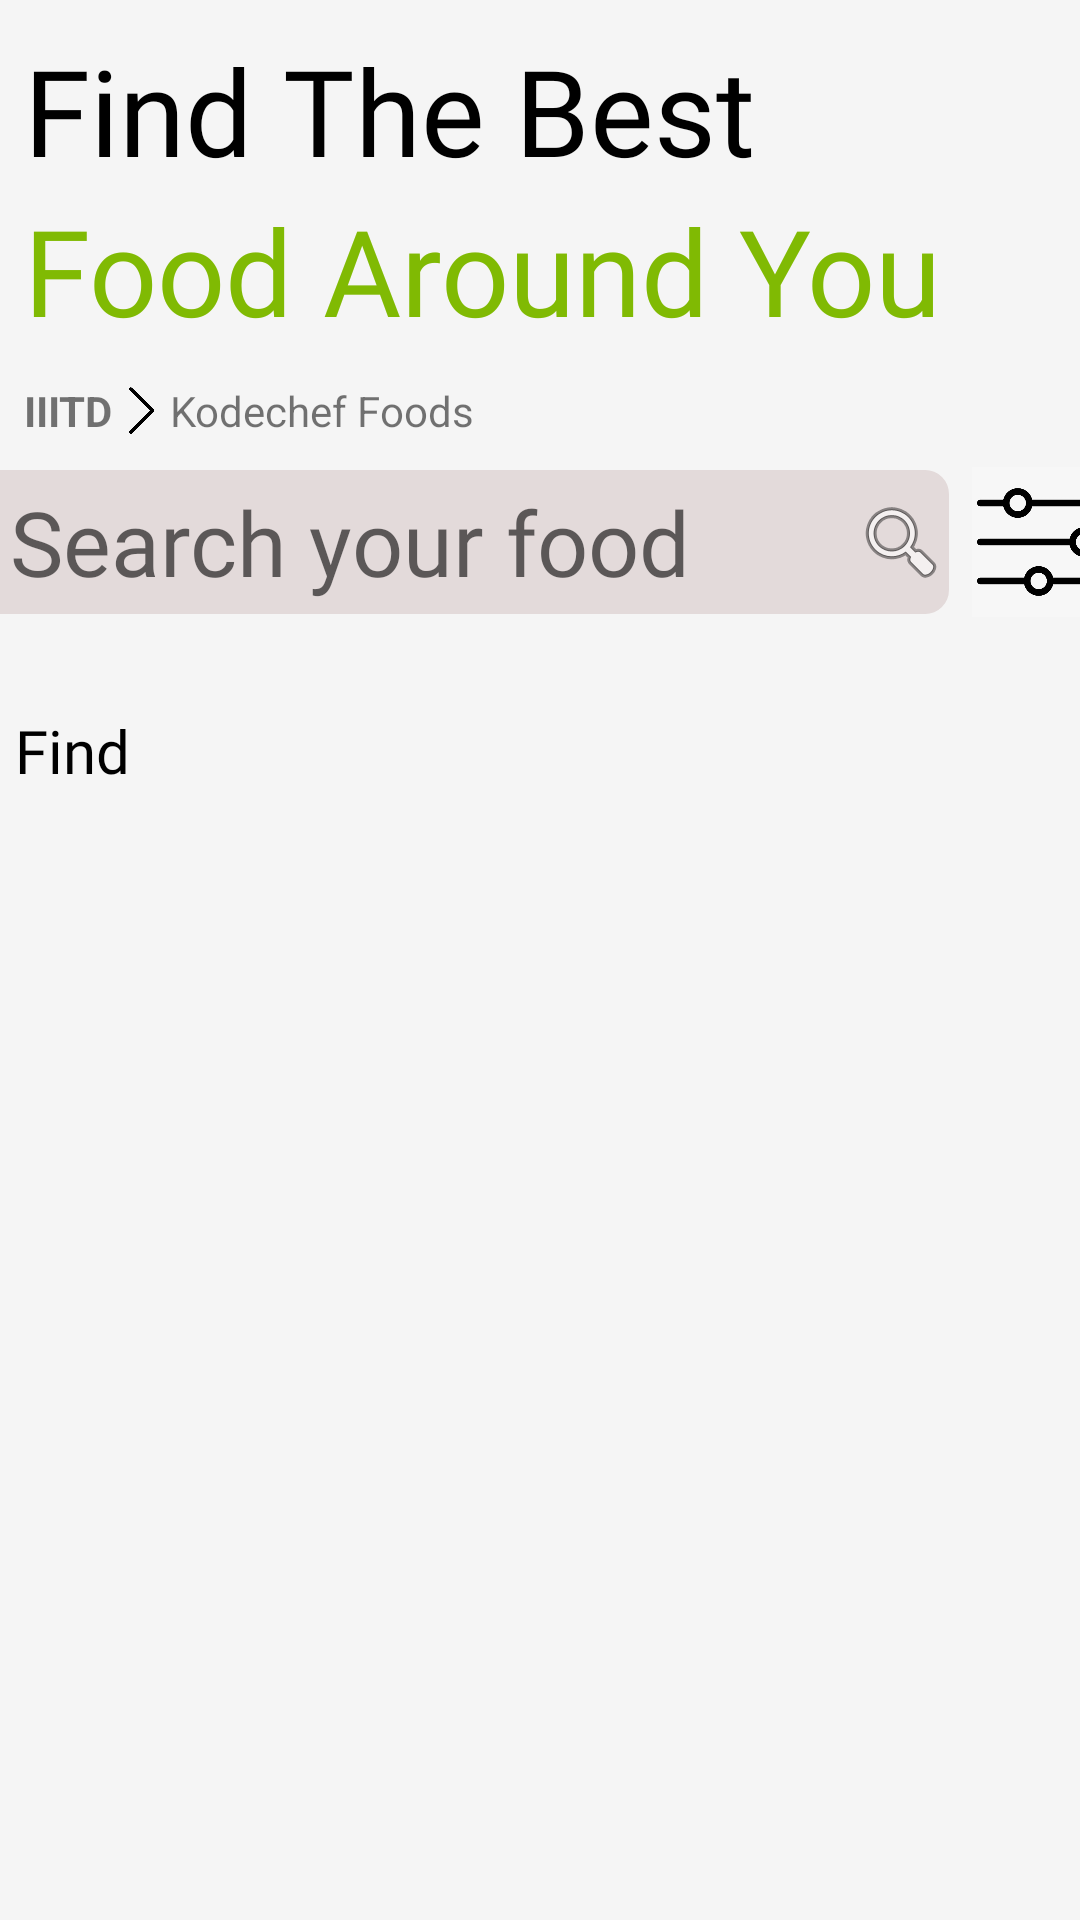

Icons on this 1080w x 1920h Android screen, each with the point to tap as point (x, y):
forwardicon: point (141, 410)
